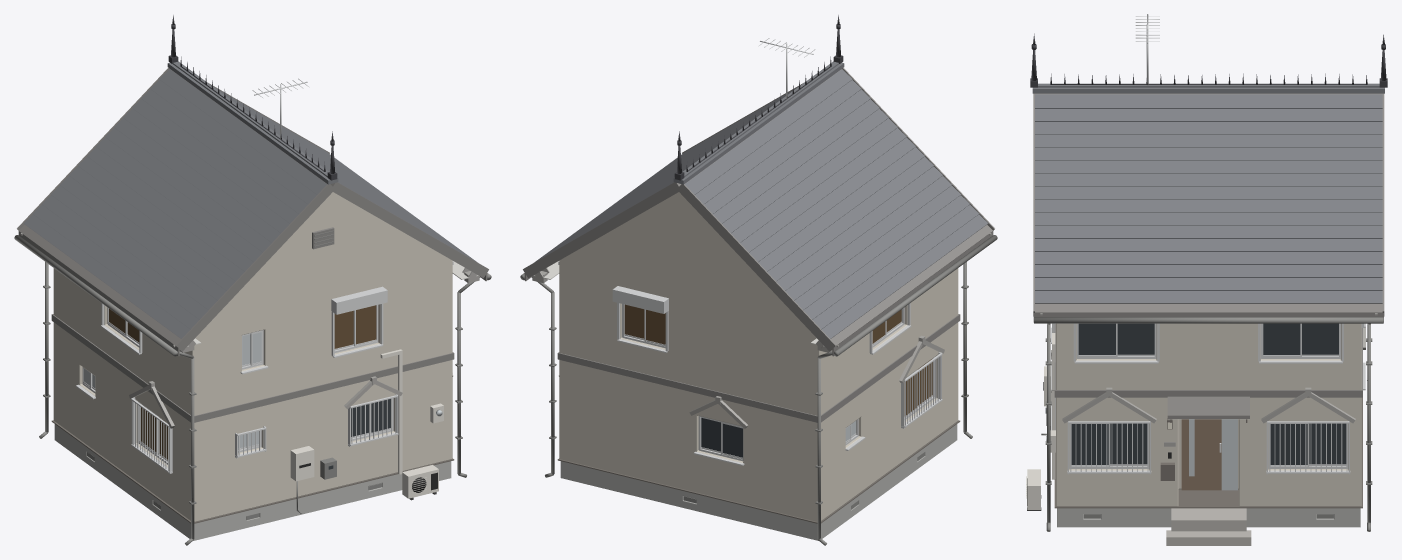
The model's file is jp_house_a.glb.
3 views of the same model, side by side, from view 1: azimuth 30°, elevation 25°; view 2: azimuth 150°, elevation 25°; view 3: azimuth 270°, elevation 25° (orthographic). The views are drawn at different scales.
Parts seen in each view (by area): view 1: jp_house_a; view 2: jp_house_a; view 3: jp_house_a.
Part boxes in pixels (x1,y1,x2,y2): jp_house_a: (14,15,491,545); jp_house_a: (520,15,997,545); jp_house_a: (1026,14,1387,545).
Size of the model in its own units: 8.5 by 9.86 by 7.44.
